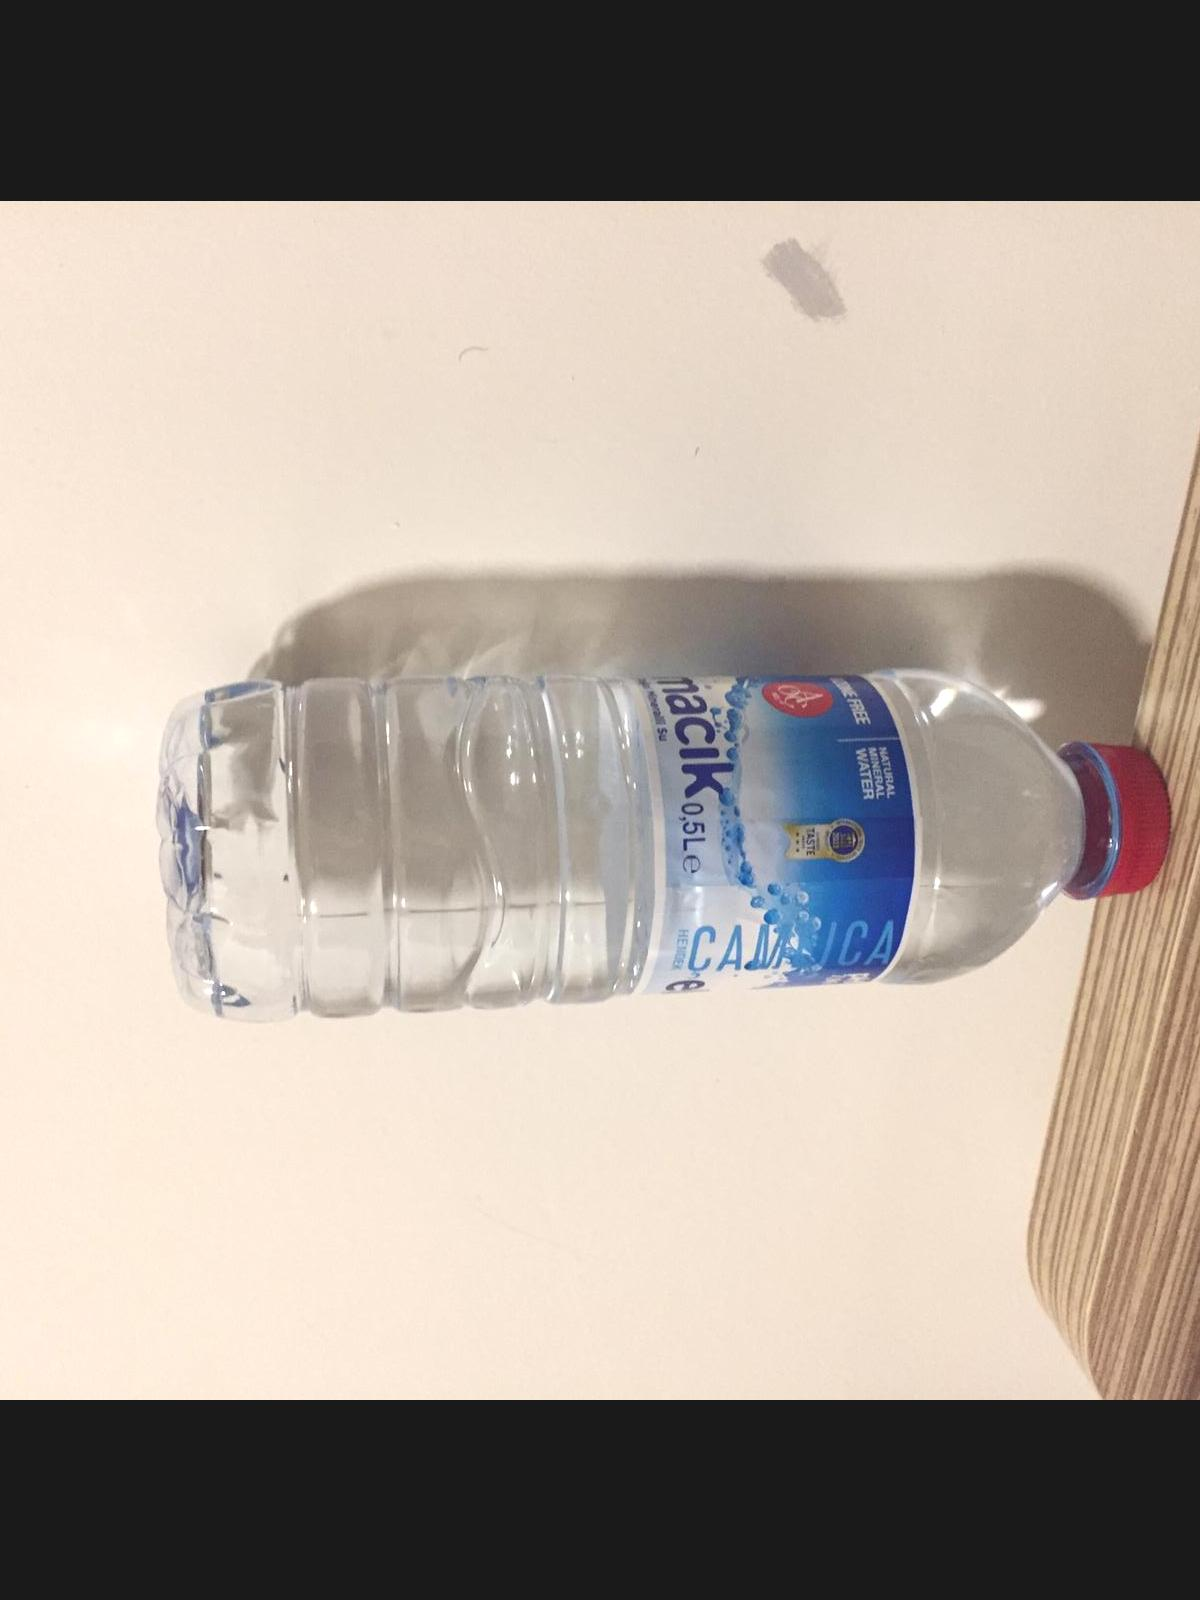bottle: (154, 659, 1176, 1024)
